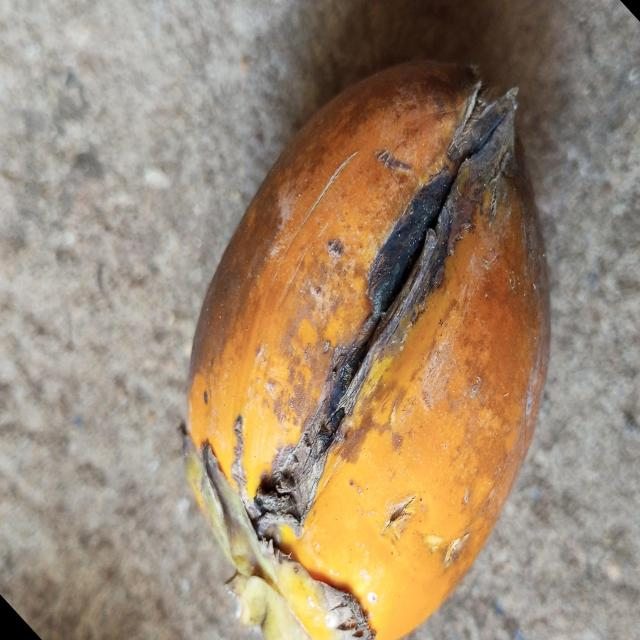damaged: (186, 61, 549, 640)
